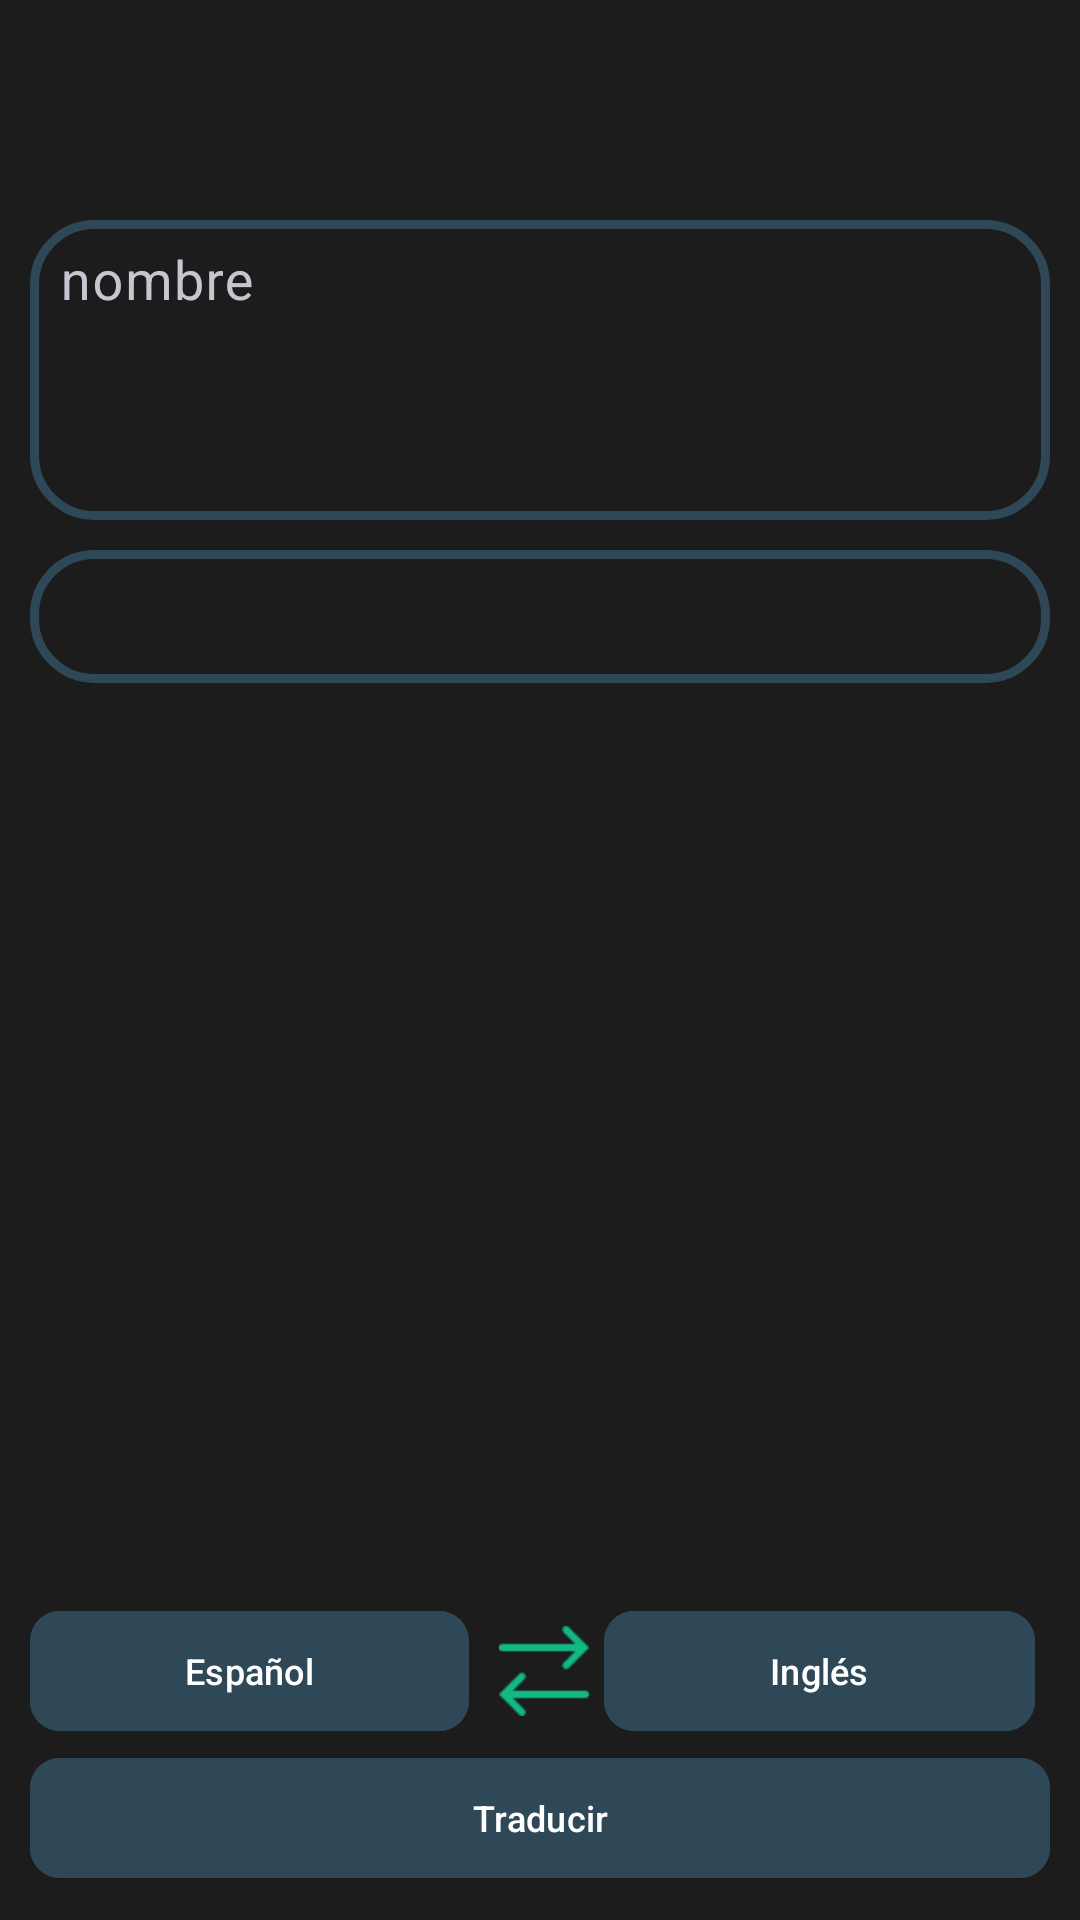

Icons on this 1080×1920 Android screen, each with its box as (left=x1, top=y1, right=x2, bottom=y2):
trans: (left=499, top=1626, right=589, bottom=1716)
